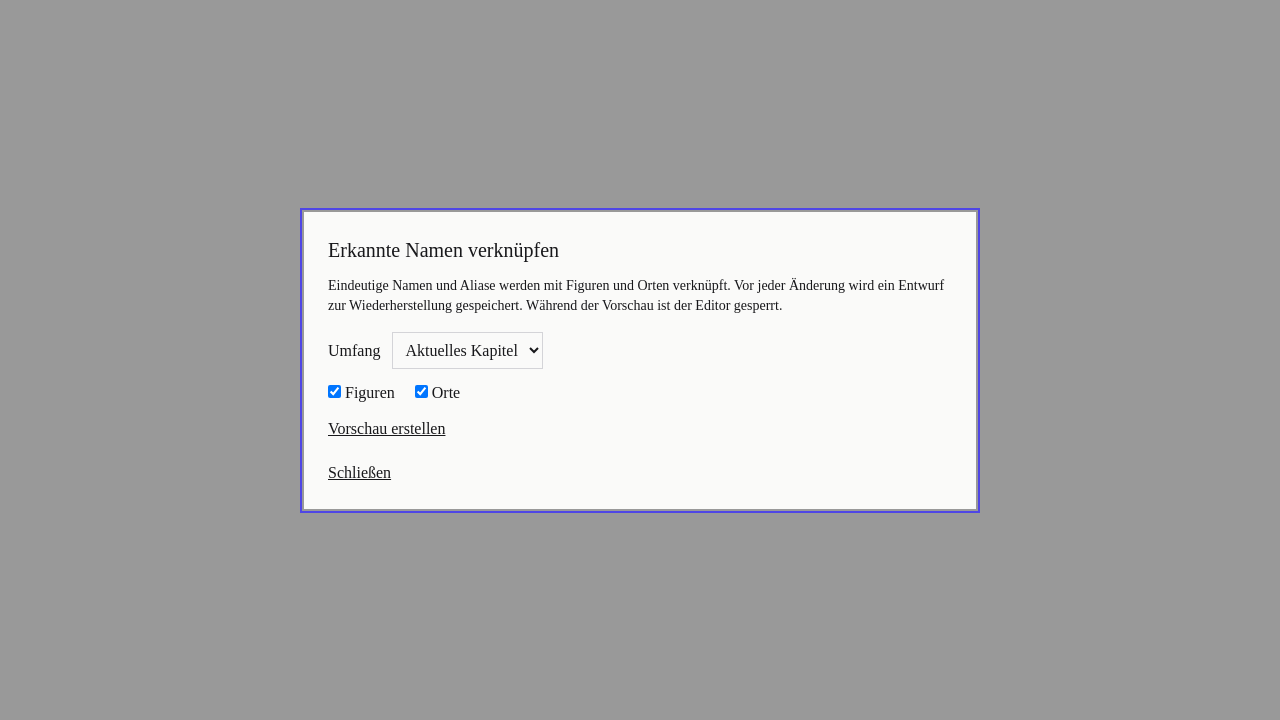
scope and type changes invalidate the preview
What coordinates should you click on to do the following:
click the button "Vorschau erstellen"
I would click on:
 (387, 428)
Its box is [328,416,446,440].
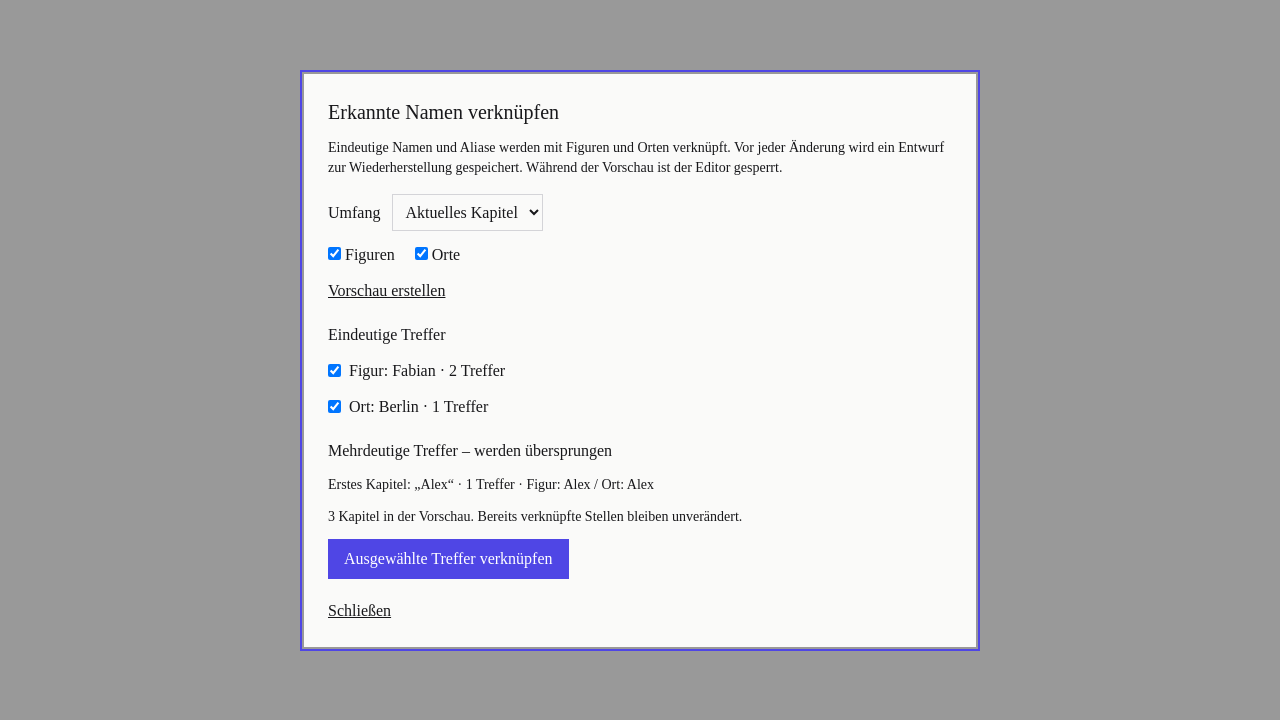
Check: the text "Figur: Fabian · 2 Treffer" is shown, box [349,358,505,382]
What coordinates should you click on to do the following:
click the checkbox labelled "Orte"
I would click on:
 (421, 253)
Its box is [415,246,428,260].
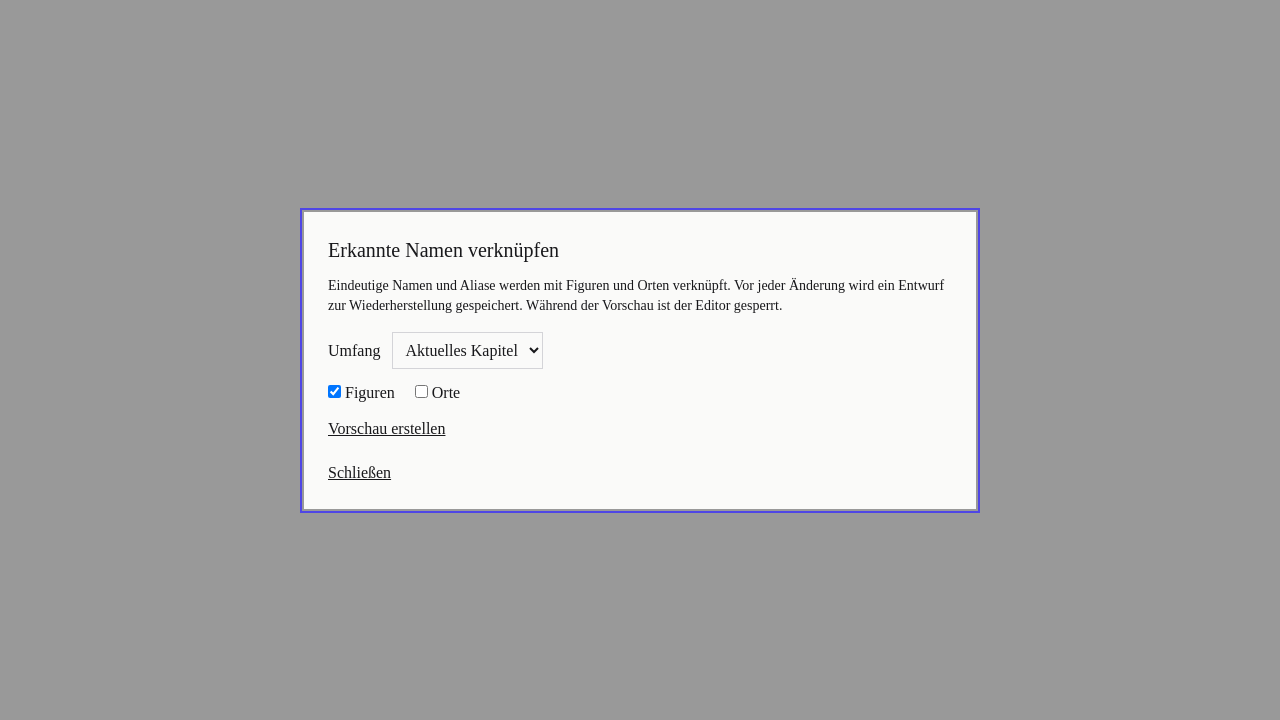
Check: the button "Ausgewählte Treffer verknüpfen" is gone
